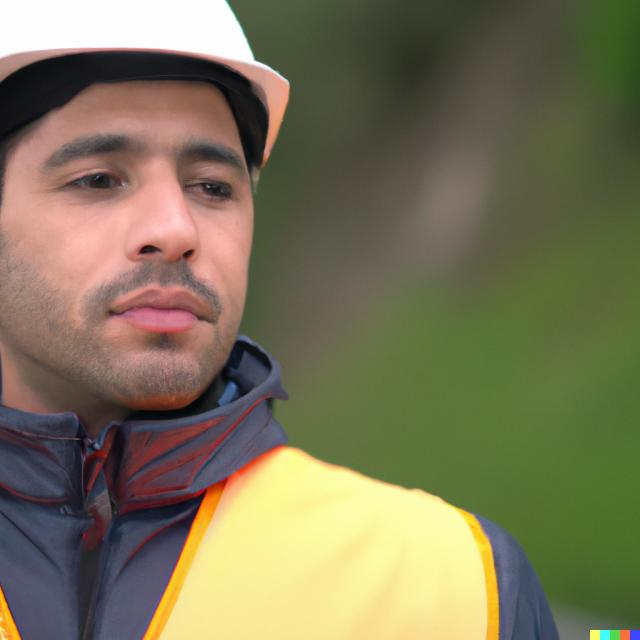Reflective-Jacket: (1, 412, 528, 638)
Safety-Helmet: (0, 4, 307, 174)
